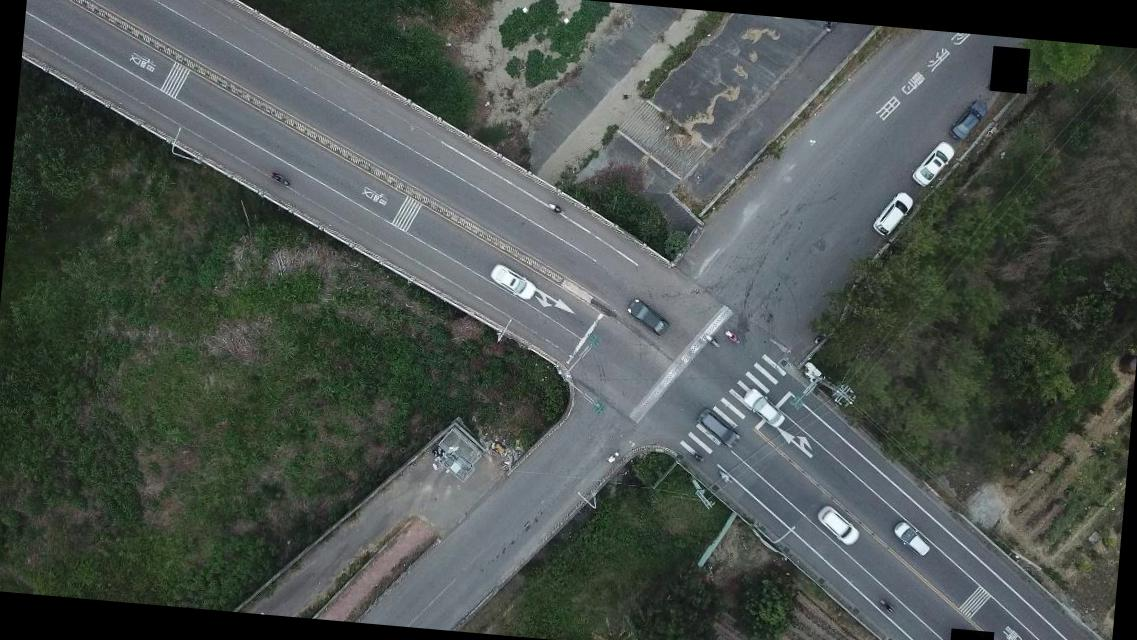vehicle: (909, 140, 960, 192), (870, 188, 915, 242), (486, 261, 540, 303), (815, 502, 861, 548), (694, 406, 742, 449), (622, 296, 671, 336), (740, 385, 784, 429), (949, 99, 990, 144), (891, 518, 933, 558)
